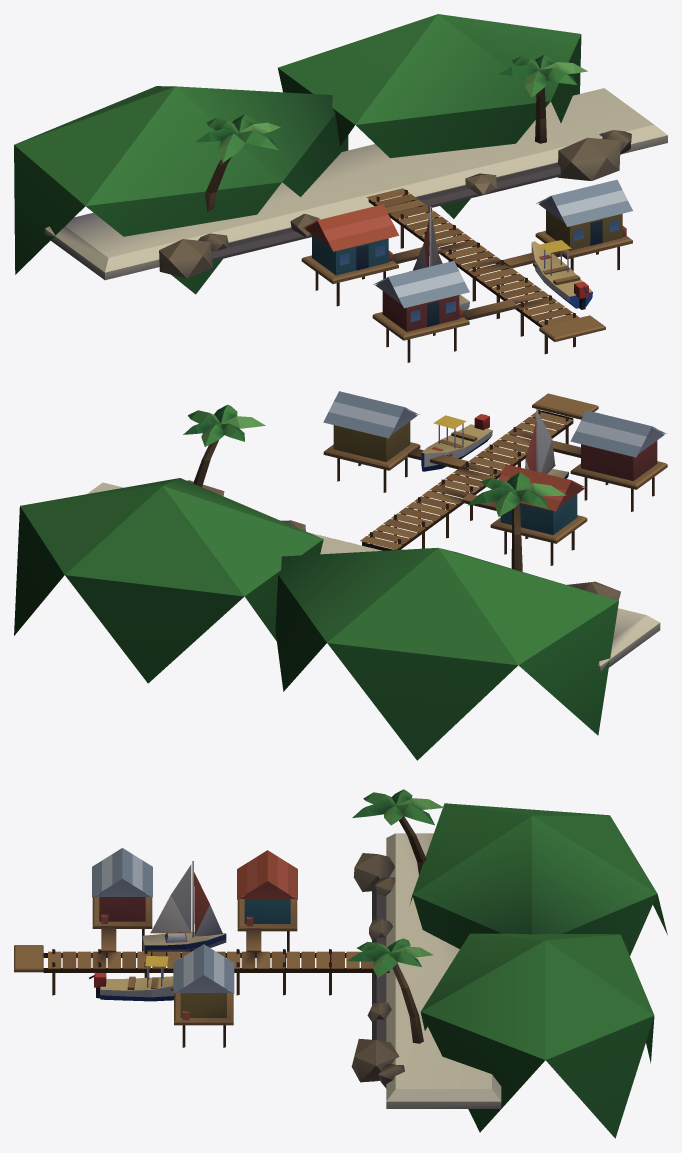
Rendered from mochima_muelle.glb.
3 views of the same model, one above another, from view 1: azimuth 30°, elevation 25°; view 2: azimuth 150°, elevation 25°; view 3: azimuth 270°, elevation 25° (orthographic). The views are drawn at different scales.
Visible parts, largest first — view 1: hills, shore, huts, pier, palms, boat_penero, boat_sailboat; view 2: hills, huts, pier, palms, shore, boat_penero, boat_sailboat; view 3: hills, shore, huts, pier, palms, boat_sailboat, boat_penero.
Boxes of the visible parts, x1,y1,x2,y2 form: hills: (14, 14, 581, 294); shore: (45, 88, 667, 280); huts: (301, 179, 632, 362); pier: (366, 188, 605, 354); palms: (194, 54, 587, 211); boat_penero: (531, 240, 592, 309); boat_sailboat: (409, 206, 469, 310); hills: (14, 478, 618, 760); huts: (323, 391, 667, 565); pier: (360, 393, 598, 550); palms: (183, 404, 566, 571); shore: (87, 480, 660, 672); boat_penero: (421, 414, 492, 471); boat_sailboat: (525, 409, 568, 478); hills: (409, 803, 667, 1138); shore: (351, 833, 501, 1108); huts: (92, 848, 297, 1047); pier: (14, 926, 389, 995); palms: (347, 789, 443, 1043); boat_sailboat: (142, 861, 226, 952); boat_penero: (89, 956, 173, 1001).
Bounding box in the file's own units: 40.06 × 10.87 × 40.99.
